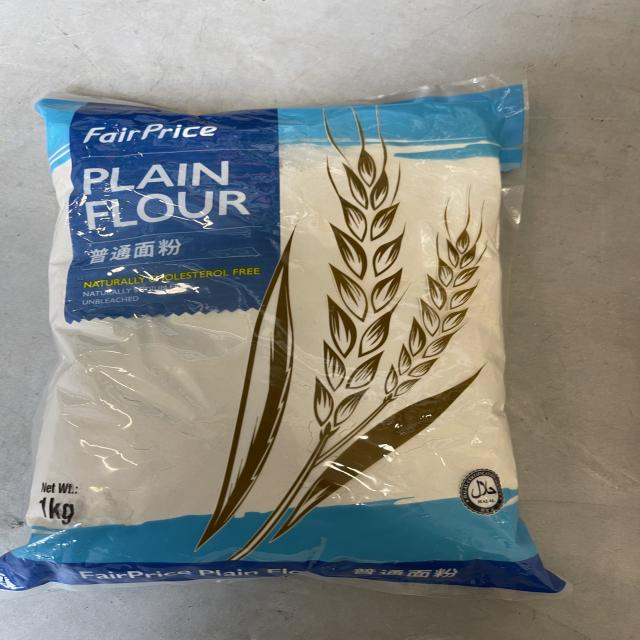object_name: (40, 99, 527, 597)
